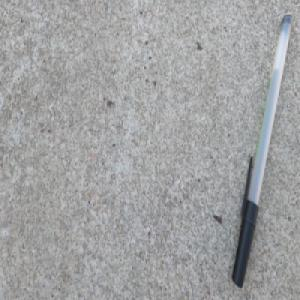Pen: (229, 7, 294, 291)
